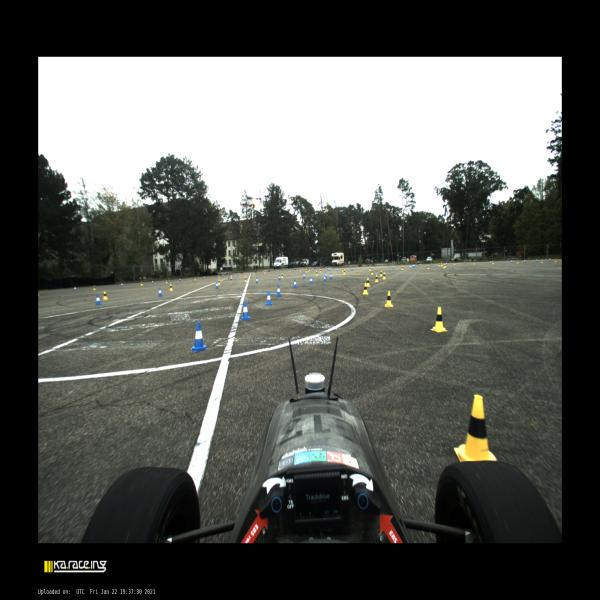blue_cone: (190, 322, 208, 353), (240, 301, 251, 320), (265, 292, 272, 306), (95, 295, 102, 305), (276, 285, 281, 296), (293, 280, 298, 288), (158, 287, 162, 296), (309, 276, 313, 284), (215, 282, 219, 289), (255, 278, 259, 284), (323, 275, 326, 281), (278, 275, 281, 280), (303, 273, 306, 278), (330, 273, 332, 279), (392, 265, 395, 269), (74, 287, 77, 290), (371, 266, 373, 270), (121, 283, 123, 286), (179, 278, 181, 281), (222, 274, 224, 277), (336, 268, 338, 271), (412, 265, 414, 268), (413, 264, 415, 267), (549, 258, 551, 261), (152, 280, 153, 284), (262, 271, 264, 273), (322, 268, 324, 270), (328, 268, 330, 270), (351, 268, 353, 270), (464, 262, 466, 264), (490, 260, 491, 264), (312, 268, 314, 270), (326, 268, 328, 270), (204, 276, 205, 279), (330, 268, 331, 271), (420, 263, 421, 266), (431, 263, 432, 266), (446, 262, 447, 265), (511, 260, 512, 263), (536, 259, 537, 262), (251, 272, 252, 274), (302, 269, 303, 271), (327, 268, 328, 270), (410, 266, 411, 268), (524, 260, 525, 262), (238, 273, 238, 276), (278, 270, 278, 272), (292, 269, 292, 271)
yellow_cone: (454, 395, 496, 461), (430, 307, 449, 332), (384, 290, 394, 307), (362, 282, 369, 294), (102, 291, 109, 300), (366, 277, 371, 287), (169, 283, 174, 291), (382, 272, 387, 280), (375, 274, 379, 282), (370, 269, 374, 275), (244, 276, 247, 282), (343, 269, 346, 275), (281, 273, 284, 278), (218, 279, 220, 285), (316, 270, 318, 276), (380, 270, 382, 276), (401, 266, 404, 270), (93, 286, 96, 290), (140, 282, 143, 286), (341, 268, 344, 272), (369, 266, 371, 271), (427, 265, 429, 270), (264, 270, 266, 274), (443, 264, 445, 268), (441, 262, 443, 266), (166, 280, 168, 283), (218, 275, 220, 278), (239, 273, 241, 276), (253, 272, 255, 275), (289, 269, 291, 272), (444, 264, 446, 267), (438, 263, 440, 266), (517, 260, 519, 263), (541, 260, 543, 263), (300, 268, 301, 272), (308, 268, 309, 272), (320, 269, 321, 273), (492, 262, 494, 264), (195, 277, 196, 280), (441, 264, 442, 267), (555, 259, 556, 262), (306, 270, 307, 272), (454, 263, 455, 265), (473, 262, 474, 264), (306, 269, 306, 272)
